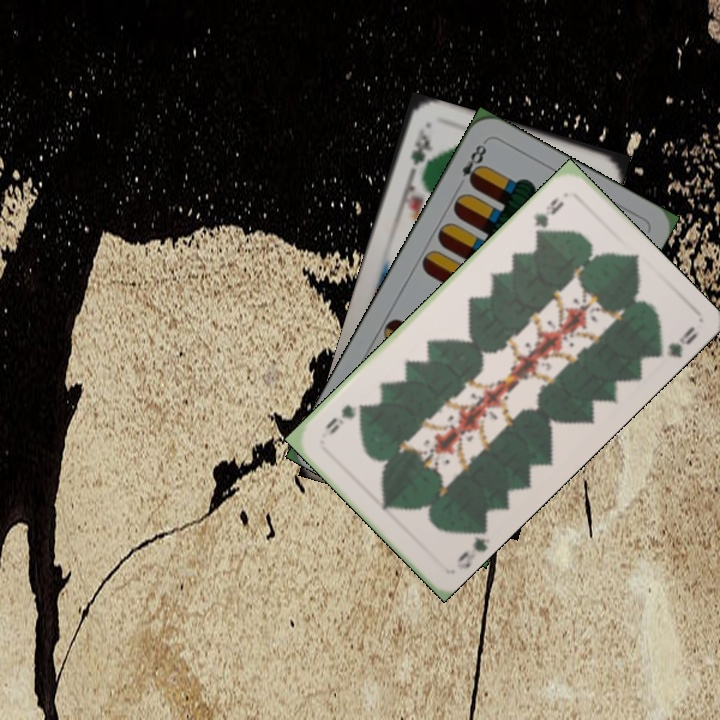E8: (457, 138, 490, 189)
G9: (452, 523, 493, 572), (530, 192, 567, 240)
GK: (406, 123, 432, 179)
